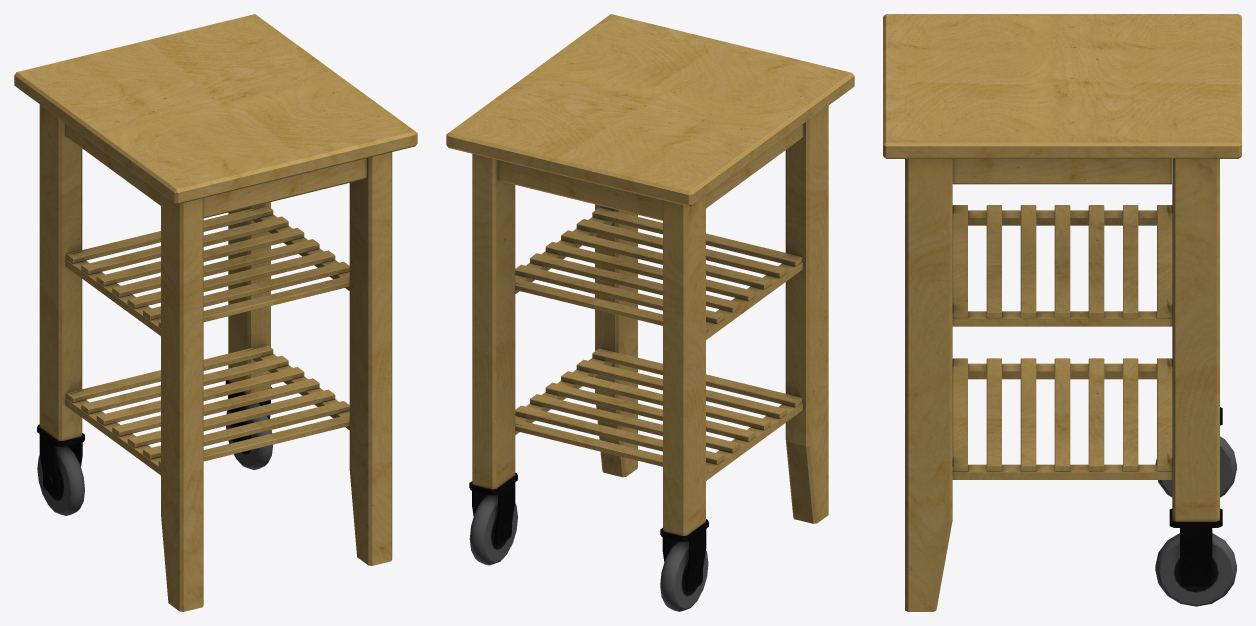
File: Side_Table.obj
3 renders of one model, left to right at view 1: azimuth 30°, elevation 25°; view 2: azimuth 150°, elevation 25°; view 3: azimuth 270°, elevation 25°, orthographic. The views are drawn at different scales.
Parts seen in each view (by area): view 1: side_table; view 2: side_table; view 3: side_table.
Part boxes in pixels (<box>): side_table: <box>14,14,417,611</box>; side_table: <box>446,14,854,611</box>; side_table: <box>883,14,1241,611</box>.
Size of the model in its own units: 0.5 by 0.85 by 0.58.
